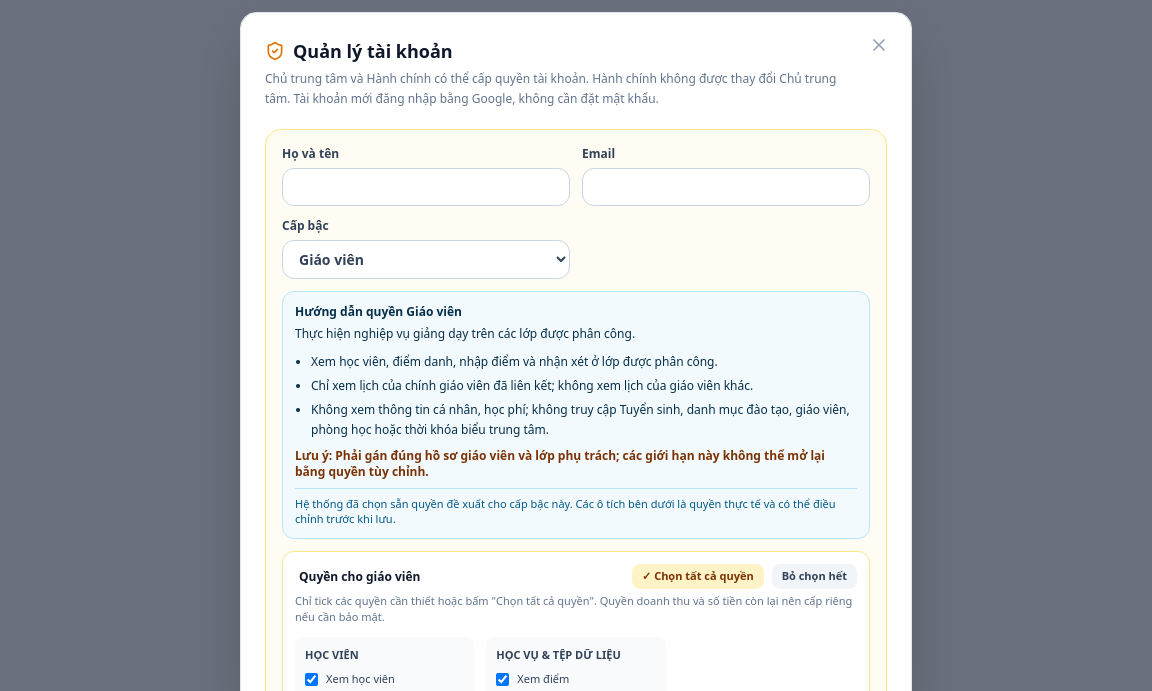
Scenario: workflow regressions › does not claim account creation succeeded when the server returns HTML
This screenshot has width=1152, height=691.
Type "Test Account" into the field labelled "Họ và tên" at [426, 187], box [282,168,570,206]
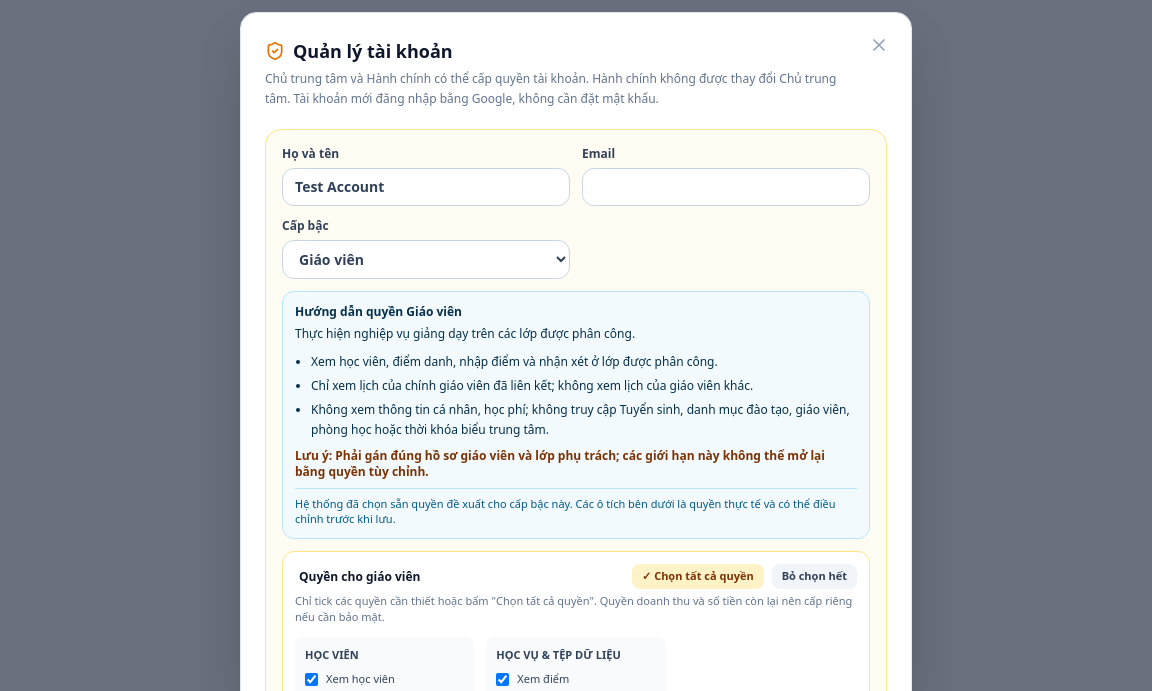
Type "demo@example.test" into the field labelled "Email" at [726, 187], box [582,168,870,206]
(page scrolled)
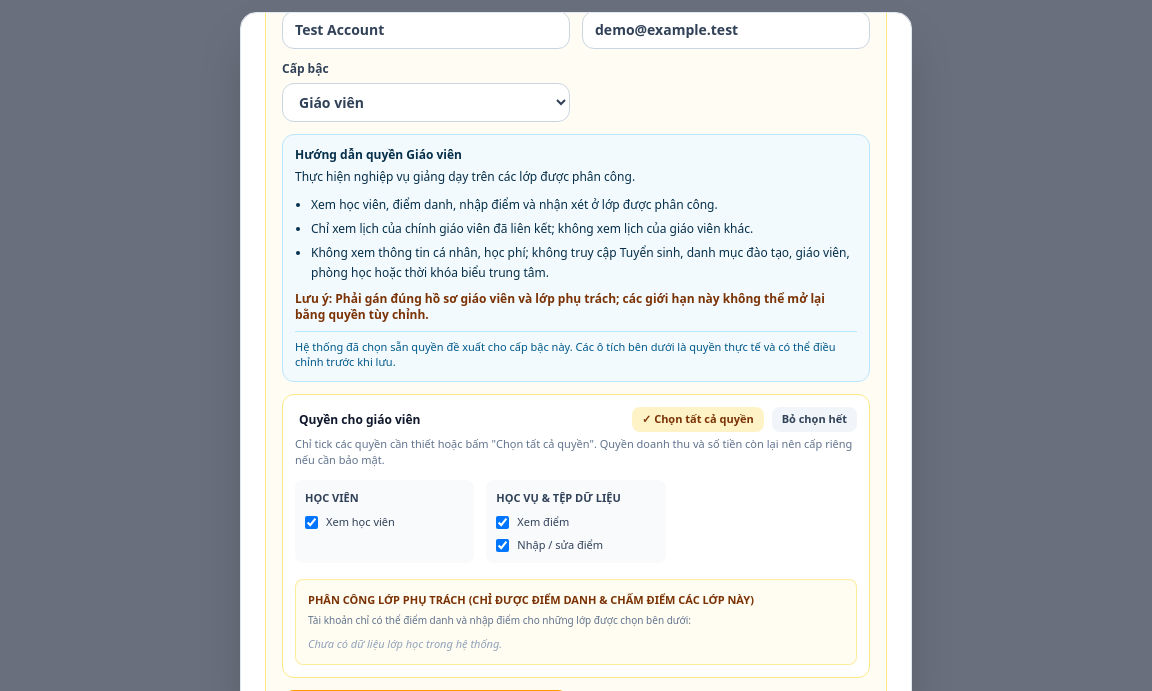
Submit the form
(page scrolled)
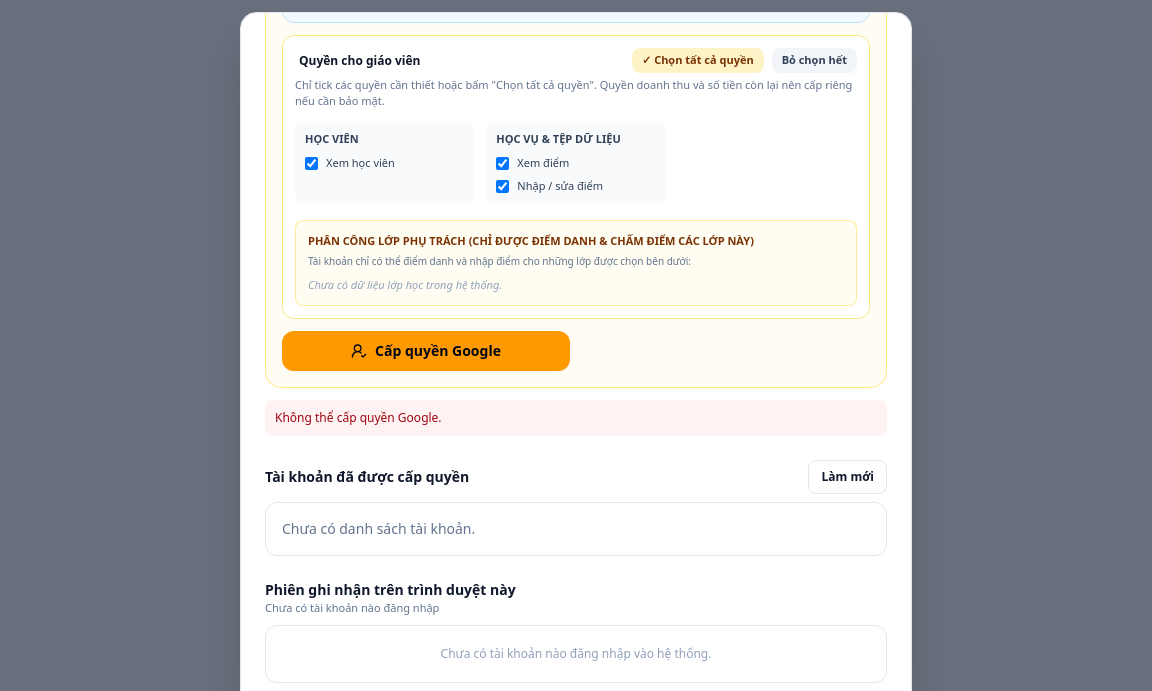
Expected: the text "Không thể cấp quyền Google." is shown, [265,400,887,436]
